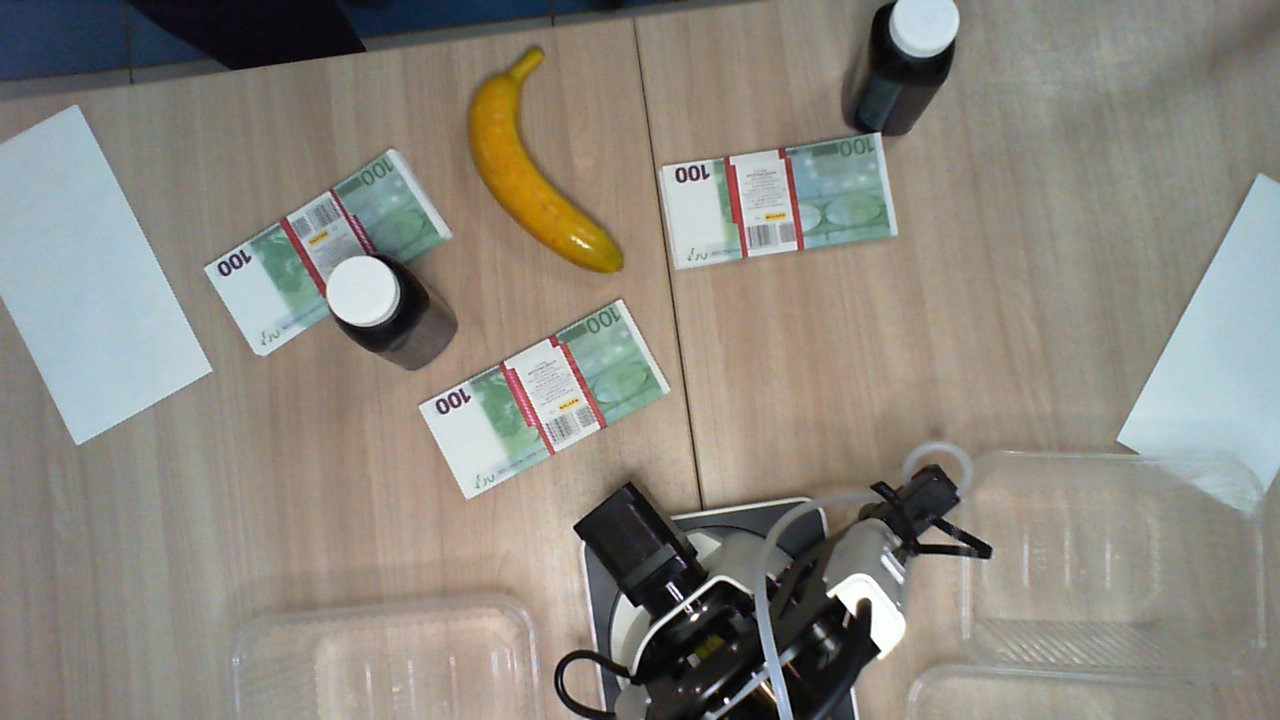banana: (466, 45, 627, 275)
bottle: (326, 256, 413, 341), (873, 1, 962, 84)
convert: (1, 104, 213, 446), (1118, 175, 1280, 512)
money: (416, 298, 673, 502), (203, 150, 454, 358), (657, 131, 898, 270)
